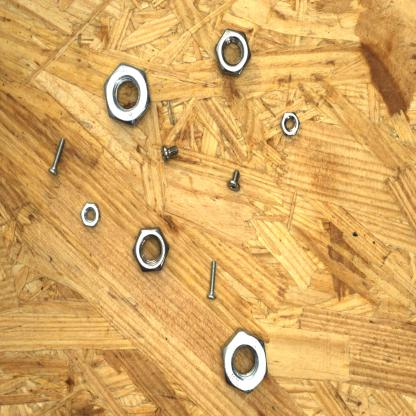screw: (46, 135, 66, 178), (204, 257, 219, 302), (224, 166, 245, 196), (158, 141, 182, 165)
